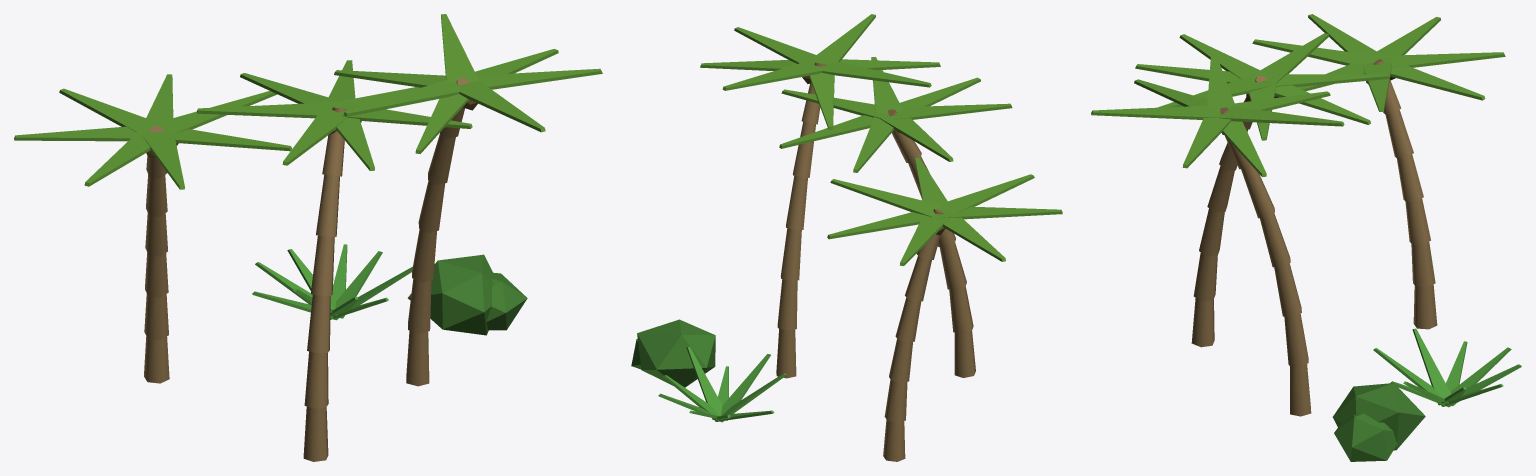
The model's file is sawyer_coastal_palms_c.glb.
3 views of the same model, side by side, from view 1: azimuth 30°, elevation 25°; view 2: azimuth 150°, elevation 25°; view 3: azimuth 270°, elevation 25° (orthographic). The views are drawn at different scales.
Visible parts, largest first — view 1: bush_3_leaves1, bush_3_leaves0, palm_2_leaf6, palm_0_leaf5, palm_0_leaf3, palm_0_leaf0, palm_0_leaf1, palm_1_leaf6, palm_1_leaf3, palm_1_leaf0, palm_2_leaf0, palm_2_trunk0 (+27 smaller); view 2: bush_3_leaves1, palm_1_leaf0, palm_2_leaf0, palm_0_leaf5, palm_0_leaf3, palm_1_leaf5, palm_1_leaf4, palm_0_leaf0, palm_1_leaf1, palm_2_leaf6, palm_2_leaf4, palm_0_trunk1 (+27 smaller); view 3: bush_3_leaves1, bush_3_leaves0, palm_0_leaf0, palm_0_leaf3, palm_1_leaf2, palm_1_leaf5, palm_1_leaf1, palm_2_leaf5, palm_2_leaf0, palm_2_leaf6, palm_2_trunk0, palm_0_trunk0 (+29 smaller).
Boxes of the visible parts, box(x1,y1,x2,y2) form: bush_3_leaves1: box(408, 254, 493, 335); bush_3_leaves0: box(486, 272, 527, 330); palm_2_leaf6: box(197, 102, 340, 118); palm_0_leaf5: box(343, 80, 461, 116); palm_0_leaf3: box(441, 14, 479, 82); palm_0_leaf0: box(458, 81, 545, 132); palm_0_leaf1: box(477, 68, 602, 89); palm_1_leaf6: box(159, 129, 291, 151); palm_1_leaf3: box(14, 124, 149, 141); palm_1_leaf0: box(147, 91, 276, 134); palm_2_leaf0: box(282, 106, 347, 165); palm_2_trunk0: box(303, 406, 328, 461); bush_3_leaves1: box(637, 319, 715, 387); palm_1_leaf0: box(830, 179, 940, 217); palm_2_leaf0: box(890, 103, 1012, 119); palm_0_leaf5: box(822, 61, 931, 87); palm_0_leaf3: box(722, 60, 825, 90); palm_1_leaf5: box(940, 174, 1034, 215); palm_1_leaf4: box(939, 206, 1062, 219); palm_0_leaf0: box(810, 14, 875, 63); palm_1_leaf1: box(827, 212, 941, 239); palm_2_leaf6: box(877, 114, 953, 161); palm_2_leaf4: box(779, 115, 884, 148); palm_0_trunk1: box(777, 279, 797, 330); bush_3_leaves1: box(1332, 383, 1425, 450); bush_3_leaves0: box(1334, 413, 1397, 461); palm_0_leaf0: box(1091, 105, 1220, 119); palm_0_leaf3: box(1218, 106, 1344, 126); palm_1_leaf2: box(1384, 52, 1505, 67); palm_1_leaf5: box(1252, 39, 1379, 65); palm_1_leaf1: box(1383, 59, 1485, 100); palm_2_leaf5: box(1276, 74, 1389, 86); palm_2_leaf0: box(1179, 34, 1273, 78); palm_2_leaf6: box(1260, 33, 1329, 84); palm_2_trunk0: box(1191, 298, 1214, 347); palm_0_trunk0: box(1290, 364, 1311, 416).
Bounding box in the file's own units: 4.47 × 3.1 × 3.88.
